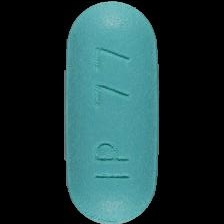53746-077: (0, 0, 224, 224)
